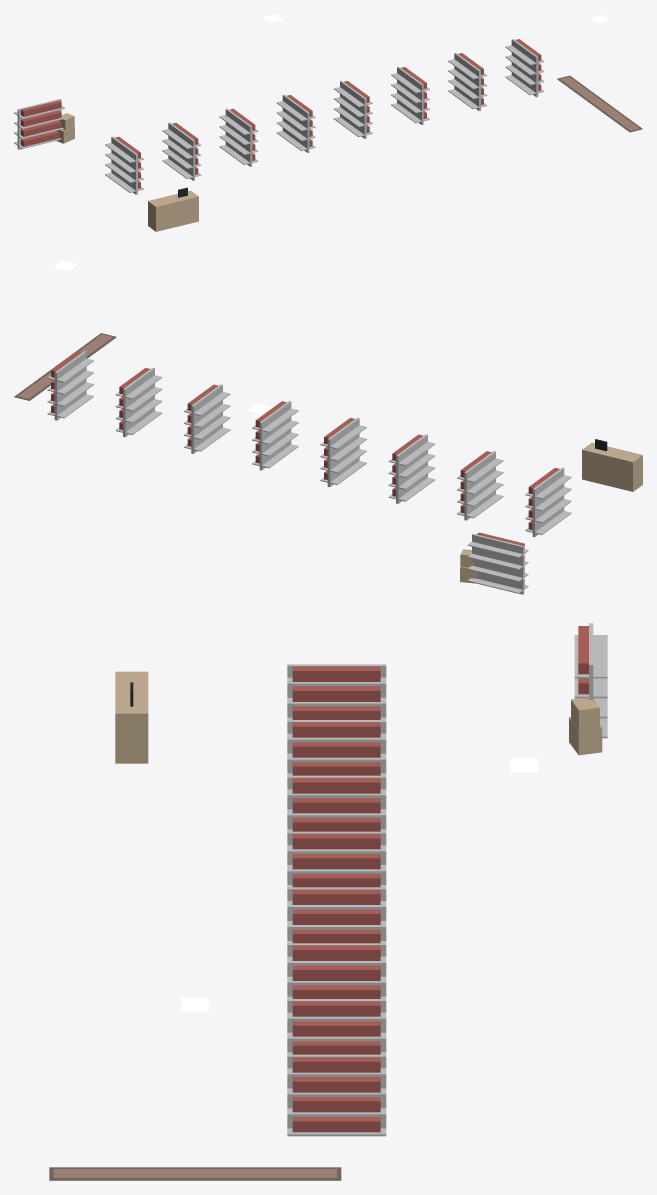
File: fine-s0.glb
The picture shows the model from 3 angles, top to bottom: view 1: azimuth 30°, elevation 25°; view 2: azimuth 150°, elevation 25°; view 3: azimuth 270°, elevation 25°; orthographic projection. The views are drawn at different scales.
Parts seen in each view (by area): view 1: shelving.000, shop-counter.000, shelf.007, shelf.001, shelf.002, shelf.003, shelf.004, shelf.006, shelf.000, shelf.005, soft-s0, cardboard-box.000; view 2: shelving.000, shop-counter.000, shelf.000, shelf.004, shelf.003, shelf.002, shelf.005, shelf.006, shelf.001, shelf.007, soft-s0; view 3: shelf.007, shelf.002, shelf.004, shelf.003, shelf.000, shelf.001, shelf.005, shelf.006, soft-s0, shop-counter.000, shelving.000, cardboard-box.000.
Boxes of the visible parts, x1,y1,x2,y2 form: shelving.000: (14, 99, 64, 149); shop-counter.000: (148, 187, 198, 231); shelf.007: (505, 39, 544, 97); shelf.001: (162, 122, 201, 180); shelf.002: (219, 108, 258, 166); shelf.003: (276, 94, 315, 152); shelf.004: (333, 80, 372, 138); shelf.006: (448, 53, 487, 110); shelf.000: (105, 136, 143, 194); shelf.005: (391, 67, 429, 124); soft-s0: (557, 75, 642, 132); cardboard-box.000: (56, 113, 74, 143); shelving.000: (467, 532, 528, 594); shop-counter.000: (582, 439, 642, 491); shelf.000: (525, 467, 571, 537); shelf.004: (252, 401, 298, 470); shelf.003: (320, 417, 366, 487); shelf.002: (388, 434, 435, 503); shelf.005: (184, 384, 230, 453); shelf.006: (115, 367, 162, 437); shelf.001: (457, 451, 503, 520); shelf.007: (47, 351, 93, 420); soft-s0: (14, 333, 116, 400); shelf.007: (287, 1054, 386, 1136); shelf.002: (287, 775, 386, 831); shelf.004: (287, 887, 386, 943); shelf.003: (287, 831, 386, 887); shelf.000: (287, 664, 386, 719); shelf.001: (287, 720, 386, 775); shelf.005: (287, 943, 386, 998); shelf.006: (287, 999, 386, 1054); soft-s0: (49, 1167, 341, 1180); shop-counter.000: (115, 671, 148, 763); shelving.000: (574, 623, 607, 738); cardboard-box.000: (569, 698, 602, 755).
Bounding box in the file's own units: 20.54 × 3.44 × 10.15.
